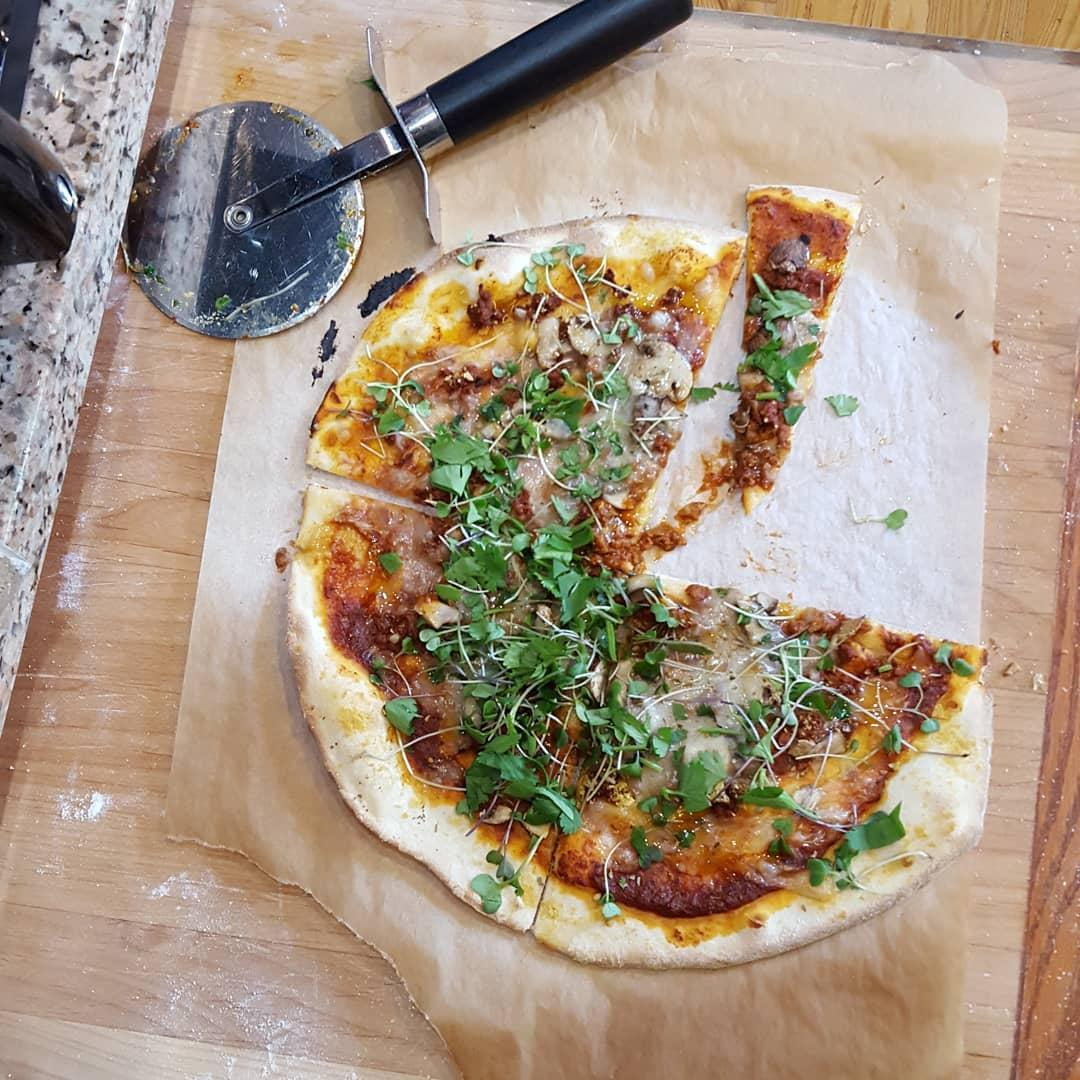Arugula: (428, 560, 640, 816), (432, 390, 645, 495), (729, 636, 826, 793), (757, 284, 815, 427)
Mushroom: (632, 340, 692, 403), (568, 310, 617, 358), (535, 317, 563, 365)
Pizza: (290, 197, 990, 968)
